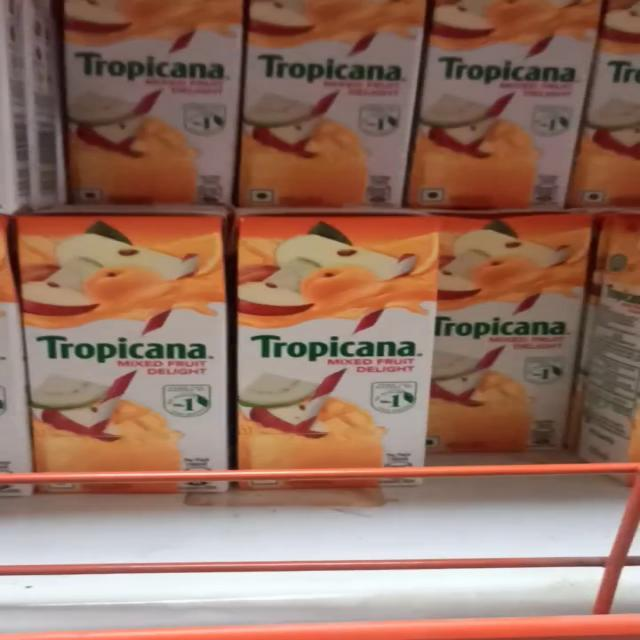Tropicana: (16, 216, 234, 494), (230, 222, 437, 485), (235, 2, 424, 219), (66, 0, 233, 214), (434, 2, 603, 210)
